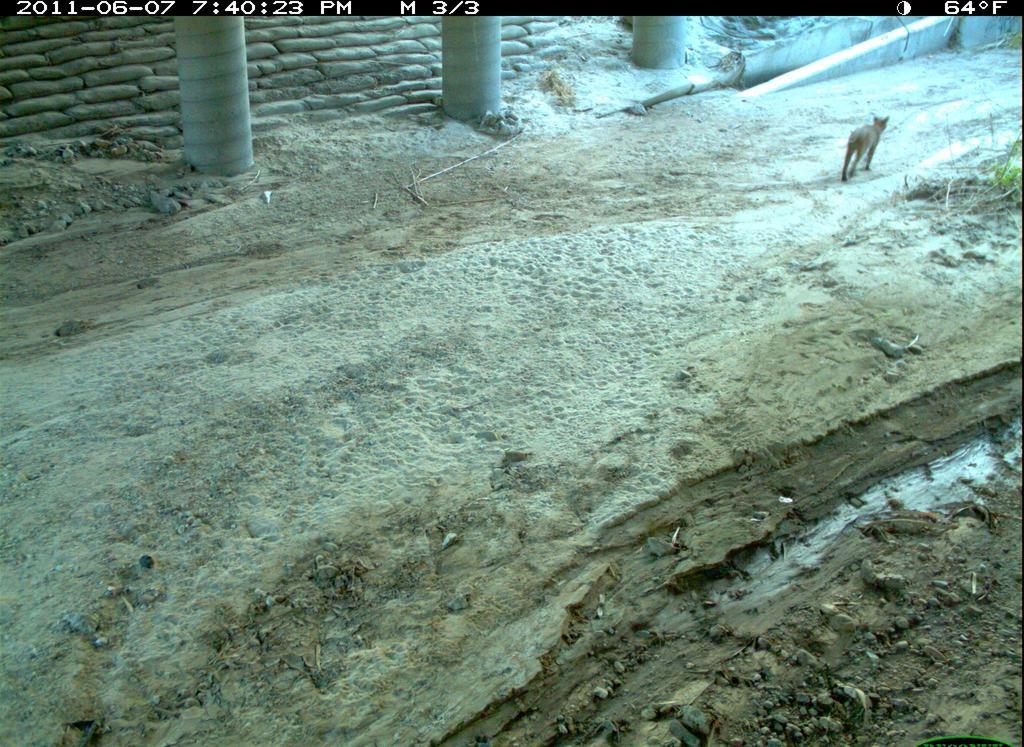bobcat: (836, 114, 899, 186)
